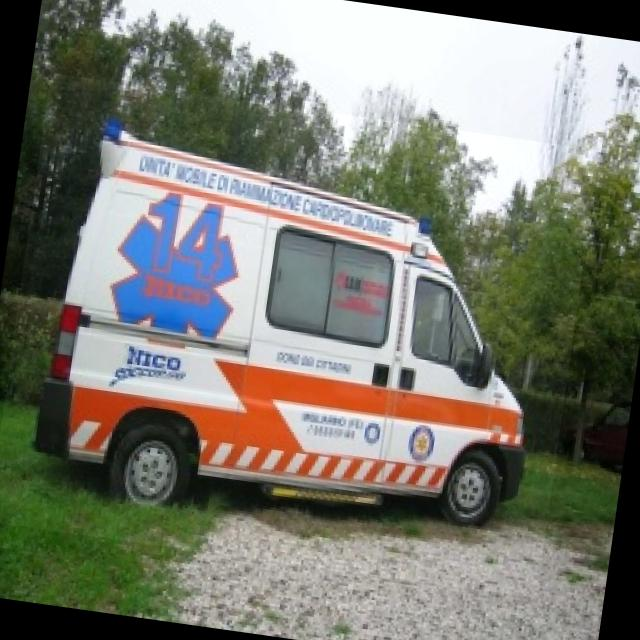ambulance: (0, 73, 599, 598)
